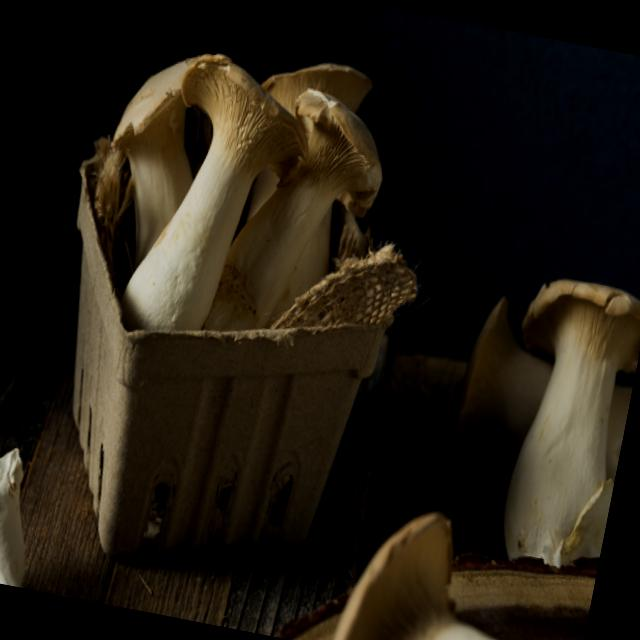Pleurotus eryngii: (76, 35, 312, 342), (484, 271, 640, 574), (227, 78, 399, 322), (336, 501, 601, 640)
